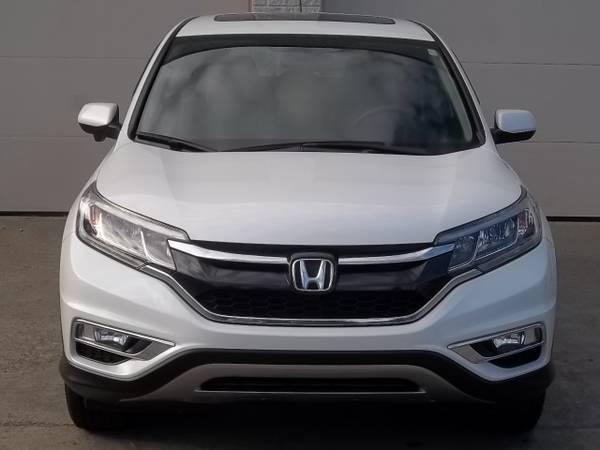Front_Bumper: (55, 219, 558, 403)
Front_Windshield: (125, 34, 484, 153)
Grille: (160, 238, 457, 323)
Hood: (94, 142, 520, 246)
Left_Headlight: (433, 187, 539, 277)
Left_Mirror: (496, 105, 541, 142)
Right_Headlight: (76, 177, 188, 276)
Right_Mirror: (78, 100, 115, 138)
Roof: (170, 8, 446, 44)
